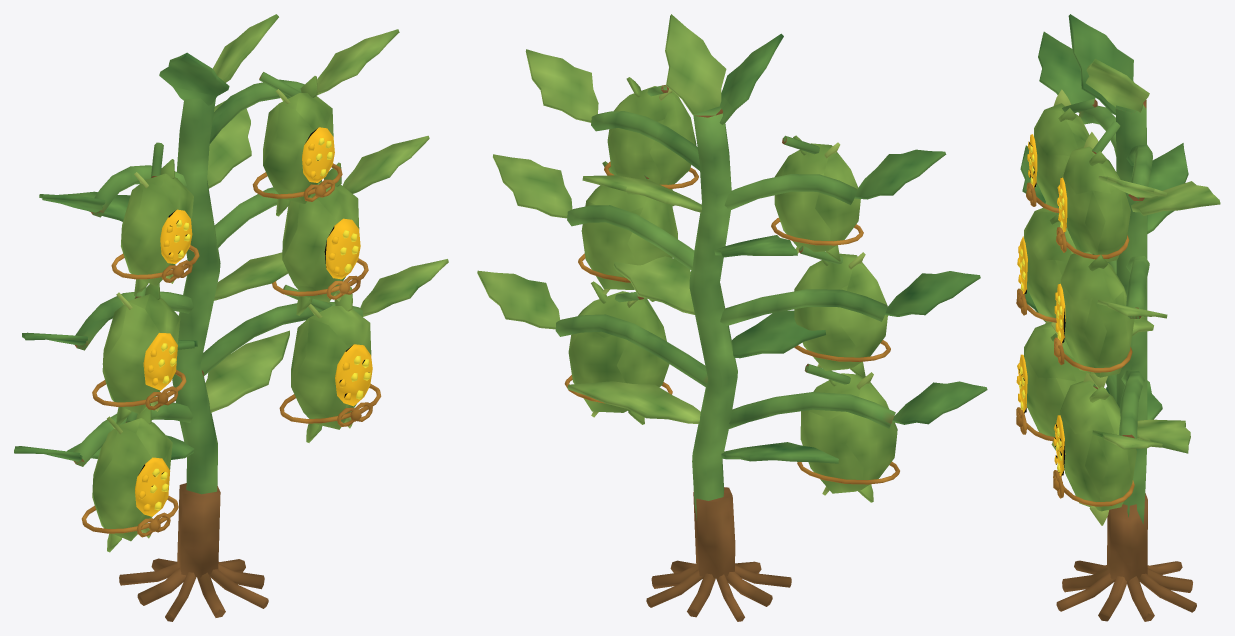
The model's file is humita_stage_2.glb.
3 views of the same model, side by side, from view 1: azimuth 30°, elevation 25°; view 2: azimuth 150°, elevation 25°; view 3: azimuth 270°, elevation 25° (orthographic). The views are drawn at different scales.
Parts seen in each view (by area): view 1: humita_stage_2; view 2: humita_stage_2; view 3: humita_stage_2.
Part boxes in pixels (x1,y1,x2,y2): humita_stage_2: [14, 14, 448, 621]; humita_stage_2: [477, 14, 987, 621]; humita_stage_2: [1016, 14, 1220, 621].
Size of what is drawn, in the model's own units: 2.47 by 2.81 by 0.9173.
Materials: 1 (1 with a texture image).
